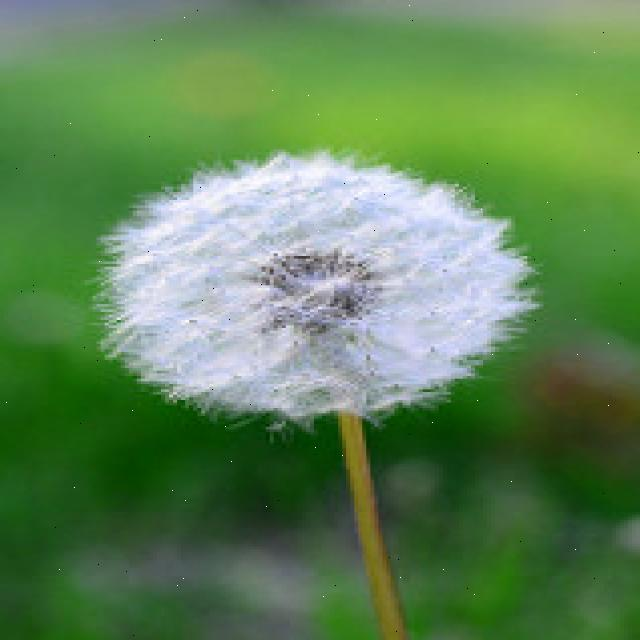Bloomed: (92, 146, 540, 426)
